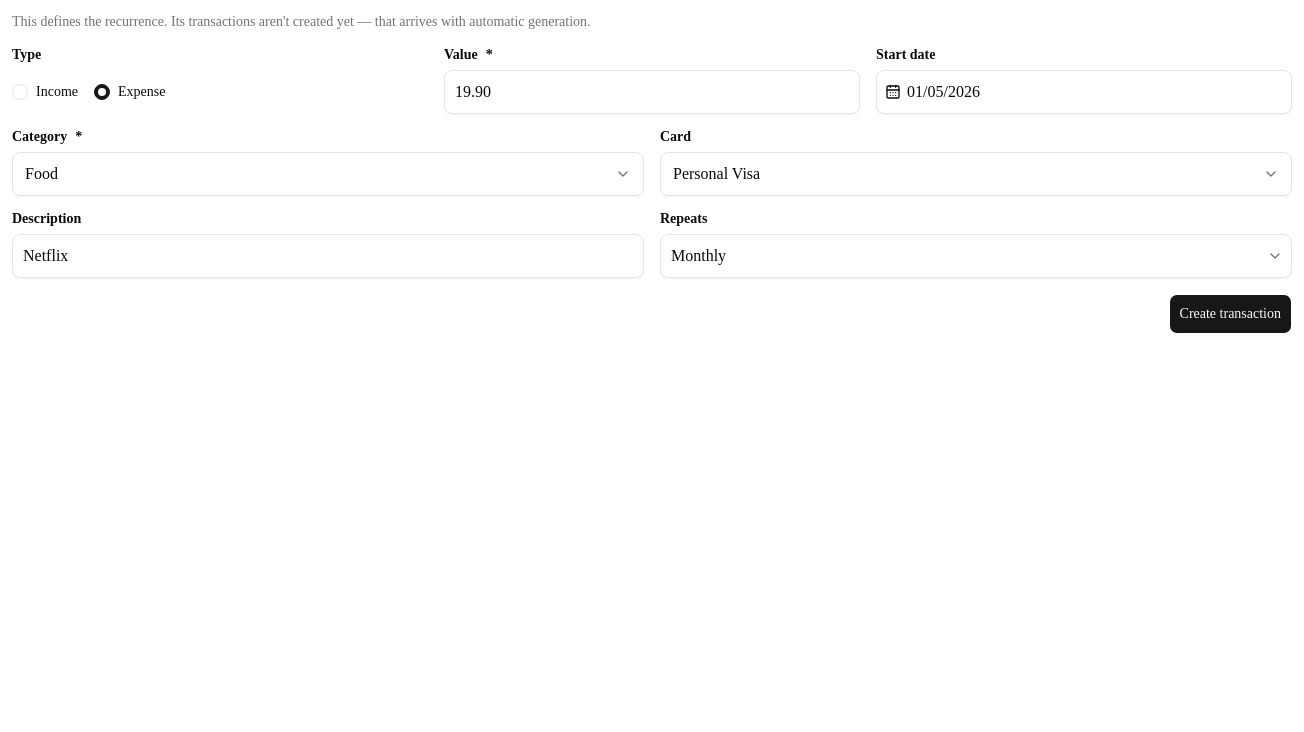
Test: RecurringTransactionForm › offers all seven frequencies, labelled from the catalogue
Click the dropdown named "Repeats" at coordinates (699, 256), box top-left (660, 234), bottom-right (1292, 278)
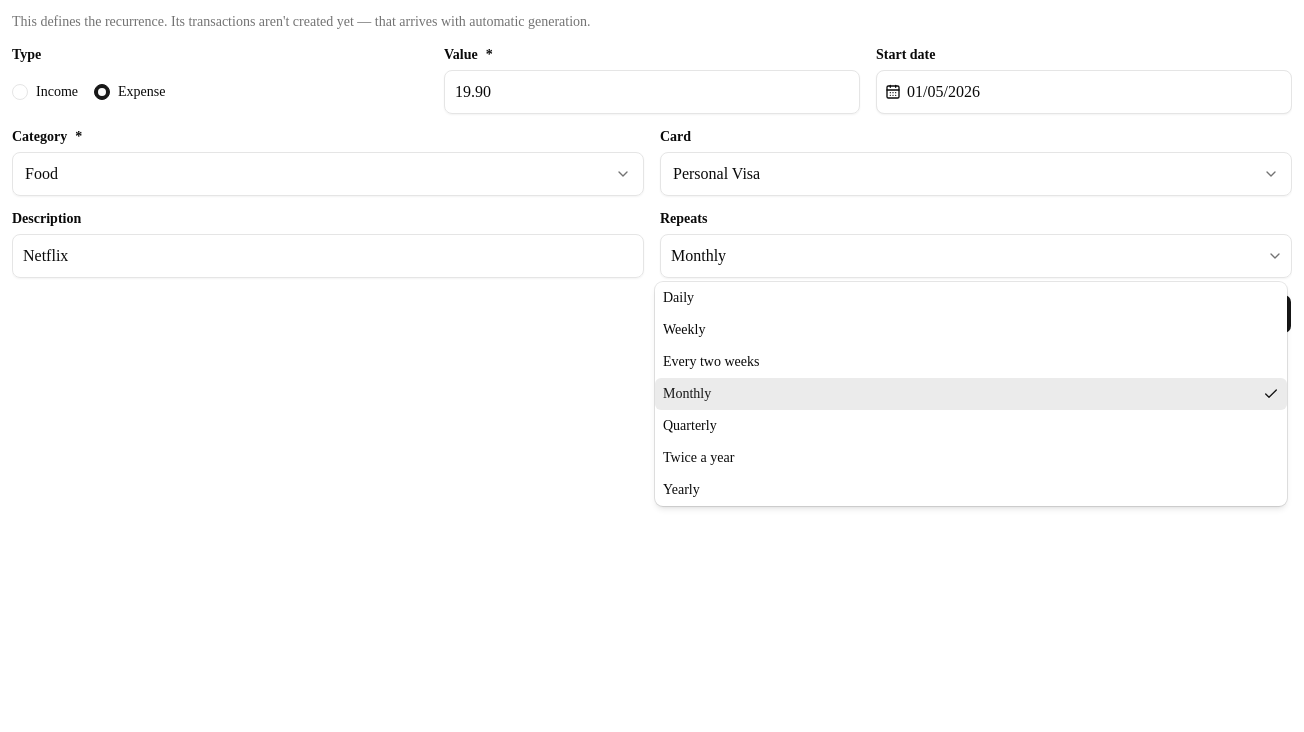
Expected: the option "Daily" is shown, top-left (663, 290), bottom-right (694, 305)
Expected: the option "Weekly" is shown, top-left (663, 322), bottom-right (705, 337)
Expected: the option "Every two weeks" is shown, top-left (663, 354), bottom-right (759, 369)
